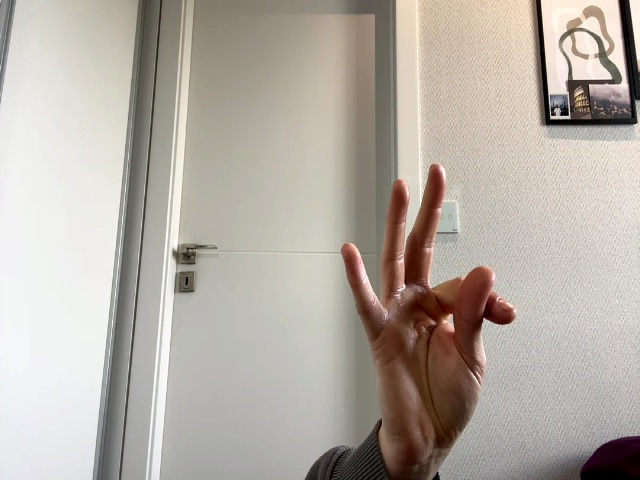T: (342, 164, 516, 418)
